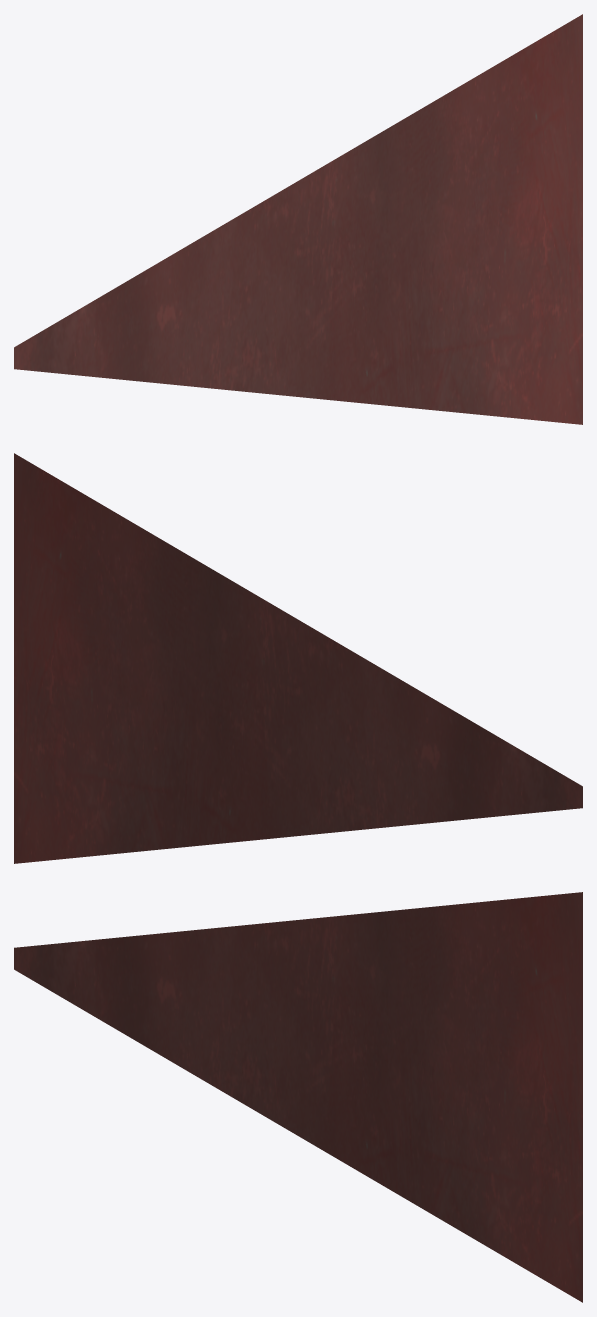
Rendered from SM_LargeFlag_AsStaticMesh.fbx.
3 renders of one model, top to bottom at view 1: azimuth 30°, elevation 25°; view 2: azimuth 150°, elevation 25°; view 3: azimuth 330°, elevation 25°, orthographic.
Parts seen in each view (by area): view 1: SM_LargeFlag_AsStaticMesh; view 2: SM_LargeFlag_AsStaticMesh; view 3: SM_LargeFlag_AsStaticMesh.
Part boxes in pixels (x1,y1,x2,y2): SM_LargeFlag_AsStaticMesh: (14, 14, 582, 424); SM_LargeFlag_AsStaticMesh: (14, 453, 582, 863); SM_LargeFlag_AsStaticMesh: (14, 892, 582, 1302).
Size of the model in its own units: 211 by 4.86e-05 by 145.
